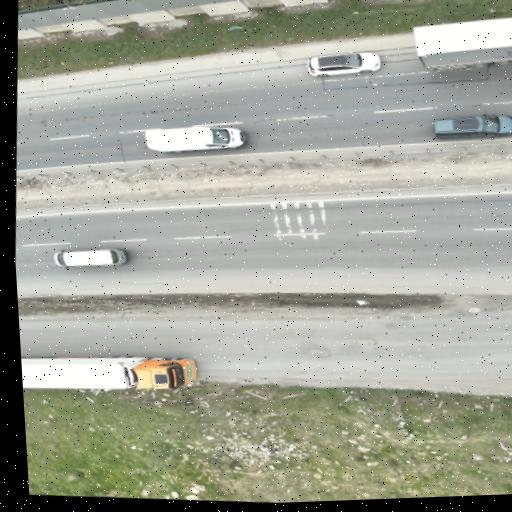car: (146, 126, 246, 153), (308, 52, 381, 77), (434, 116, 511, 138), (54, 249, 127, 268)
truck: (21, 356, 196, 390), (414, 18, 511, 71)
